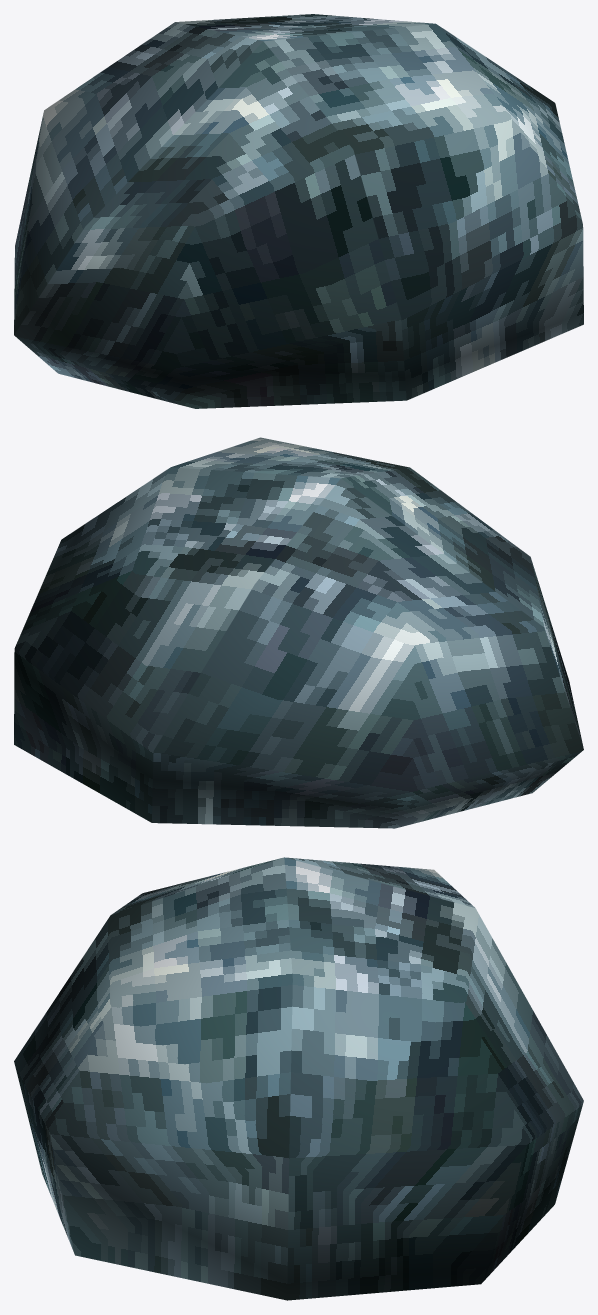
The picture shows the model from 3 angles, top to bottom: view 1: azimuth 30°, elevation 25°; view 2: azimuth 150°, elevation 25°; view 3: azimuth 270°, elevation 25°; orthographic projection. The views are drawn at different scales.
Visible parts, largest first — view 1: MT_04; view 2: MT_04; view 3: MT_04.
Boxes of the visible parts, <box> form: MT_04: <box>14,14,583,408</box>; MT_04: <box>14,437,583,828</box>; MT_04: <box>14,857,583,1300</box>.
Bounding box in the file's own units: 0.3067 × 0.1519 × 0.2539.
1 material, 1 textured.
